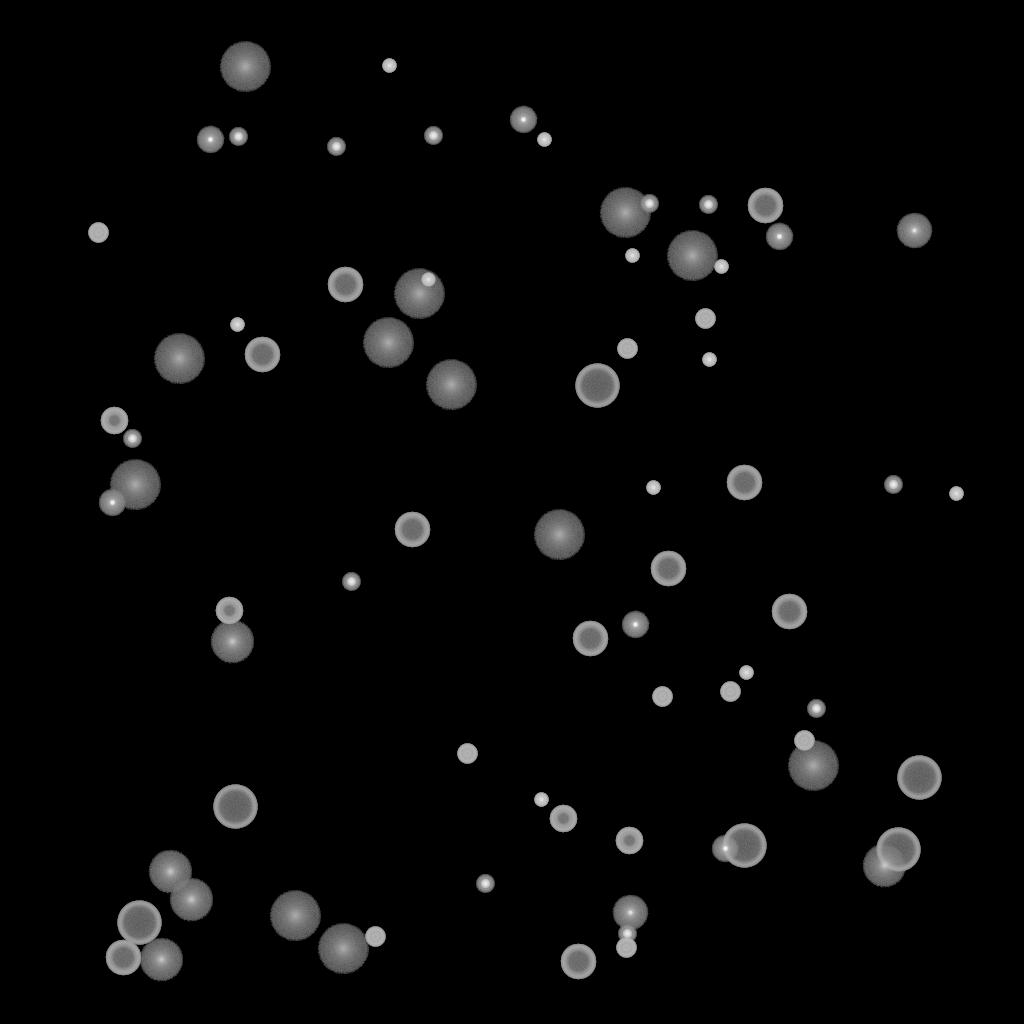depth:-10: (509, 106, 537, 134), (98, 489, 126, 517), (621, 611, 649, 639), (196, 126, 224, 154), (765, 223, 793, 251), (711, 835, 739, 863)
depth:-20: (342, 573, 360, 591), (327, 138, 345, 156), (424, 127, 442, 145), (618, 925, 636, 943), (476, 875, 494, 893), (640, 195, 658, 213), (123, 430, 141, 448), (884, 476, 902, 494), (807, 700, 825, 718), (229, 128, 247, 146), (699, 196, 717, 214)
depth:-30: (534, 793, 548, 807), (421, 273, 435, 287), (739, 666, 753, 680), (537, 133, 551, 147), (702, 353, 716, 367), (949, 487, 963, 501), (646, 481, 660, 495), (230, 318, 244, 332), (382, 59, 396, 73), (625, 249, 639, 263), (714, 260, 728, 274)
depth:-40: (794, 731, 814, 751), (720, 682, 740, 702), (652, 687, 672, 707), (88, 223, 108, 243), (617, 339, 637, 359), (695, 309, 715, 329), (457, 744, 477, 764), (616, 938, 636, 958), (365, 927, 385, 947)
depth:-50: (549, 805, 577, 833), (215, 597, 243, 625), (615, 827, 643, 855), (100, 407, 128, 435)
depth:-60: (726, 465, 762, 501), (244, 337, 280, 373), (105, 940, 141, 976), (771, 594, 807, 630), (747, 188, 783, 224), (650, 551, 686, 587), (572, 621, 608, 657), (394, 512, 430, 548), (560, 944, 596, 980), (327, 267, 363, 303)
depth:-70: (876, 828, 920, 872), (722, 824, 766, 868), (575, 364, 619, 408), (213, 785, 257, 829), (897, 756, 941, 800), (117, 901, 161, 945)
depth:0: (896, 213, 932, 249), (612, 895, 648, 931)
depth:10: (169, 878, 213, 922), (139, 938, 183, 982), (862, 844, 906, 888), (148, 850, 192, 894), (210, 620, 254, 664)
depth:20: (787, 741, 839, 791), (425, 360, 477, 410), (599, 188, 651, 238), (269, 891, 321, 941), (109, 460, 161, 510), (362, 318, 414, 368), (219, 42, 271, 92), (317, 924, 369, 974), (153, 334, 205, 384), (666, 231, 718, 281), (393, 269, 445, 319), (533, 510, 585, 560)
